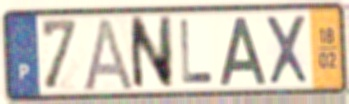7: (39, 17, 81, 93)
A: (80, 15, 137, 93), (218, 15, 269, 88)
L: (178, 18, 216, 86)
N: (127, 13, 175, 93)
X: (263, 12, 312, 87)
